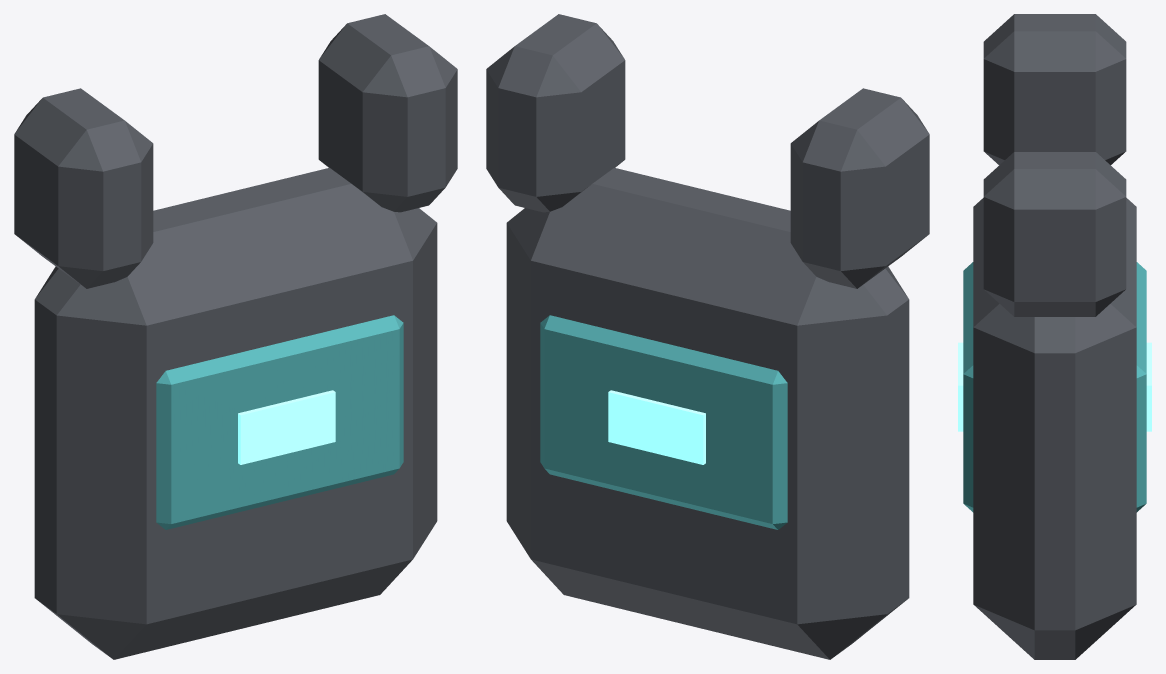
The model's file is item_armor.glb.
3 renders of one model, left to right at view 1: azimuth 30°, elevation 25°; view 2: azimuth 150°, elevation 25°; view 3: azimuth 270°, elevation 25°, orthographic. The views are drawn at different scales.
Parts seen in each view (by area): view 1: armor; view 2: armor; view 3: armor.
Boxes of the visible parts, x1,y1,x2,y2 form: armor: [14, 14, 457, 659]; armor: [486, 14, 929, 659]; armor: [958, 14, 1151, 659].
Bounding box in the file's own units: 0.42 × 0.55 × 0.19.
